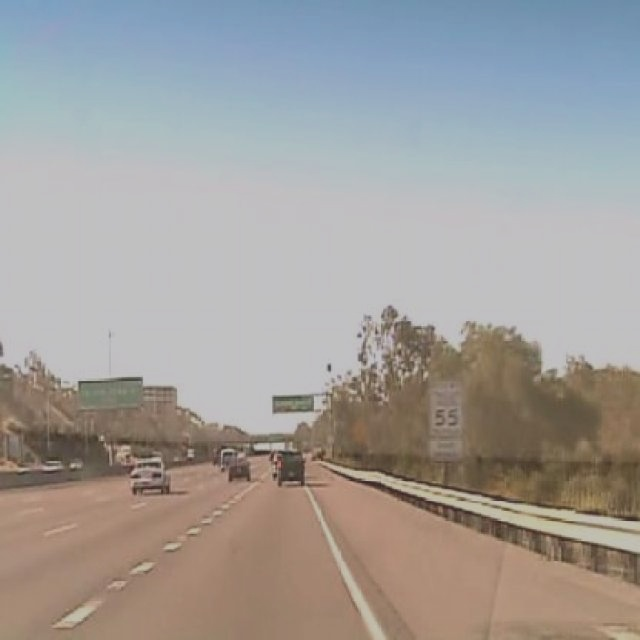truckSpeedLimit55: (429, 380, 463, 437)
